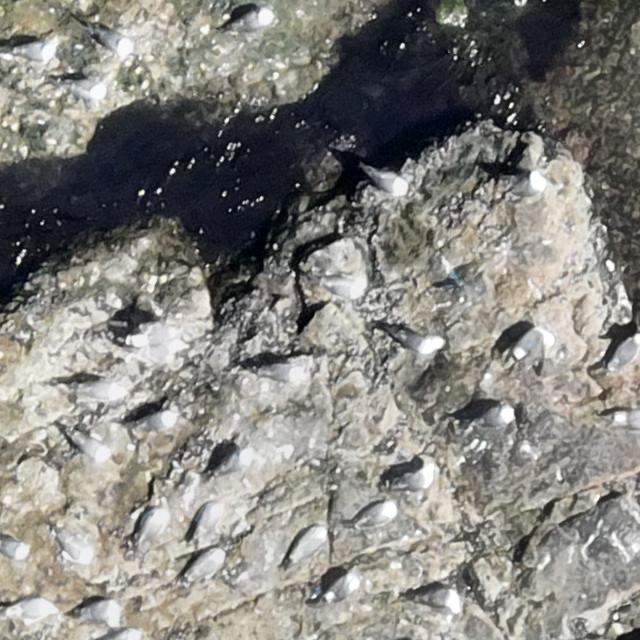umineko: (132, 412, 176, 453), (127, 323, 184, 354), (65, 377, 126, 403), (413, 583, 462, 615), (286, 525, 325, 565), (385, 462, 436, 492), (133, 505, 166, 550), (350, 500, 400, 529), (70, 430, 112, 464), (212, 445, 258, 476), (14, 38, 61, 68), (609, 333, 640, 377), (506, 171, 546, 205), (511, 327, 552, 360), (319, 272, 370, 298), (183, 549, 222, 583), (370, 163, 412, 194), (56, 534, 94, 568), (319, 573, 364, 601), (232, 7, 277, 34), (6, 597, 55, 621), (195, 504, 225, 542), (64, 78, 108, 103), (79, 602, 124, 626), (261, 362, 305, 385), (476, 406, 511, 427), (98, 30, 126, 51), (402, 334, 434, 352), (1, 539, 28, 559)
